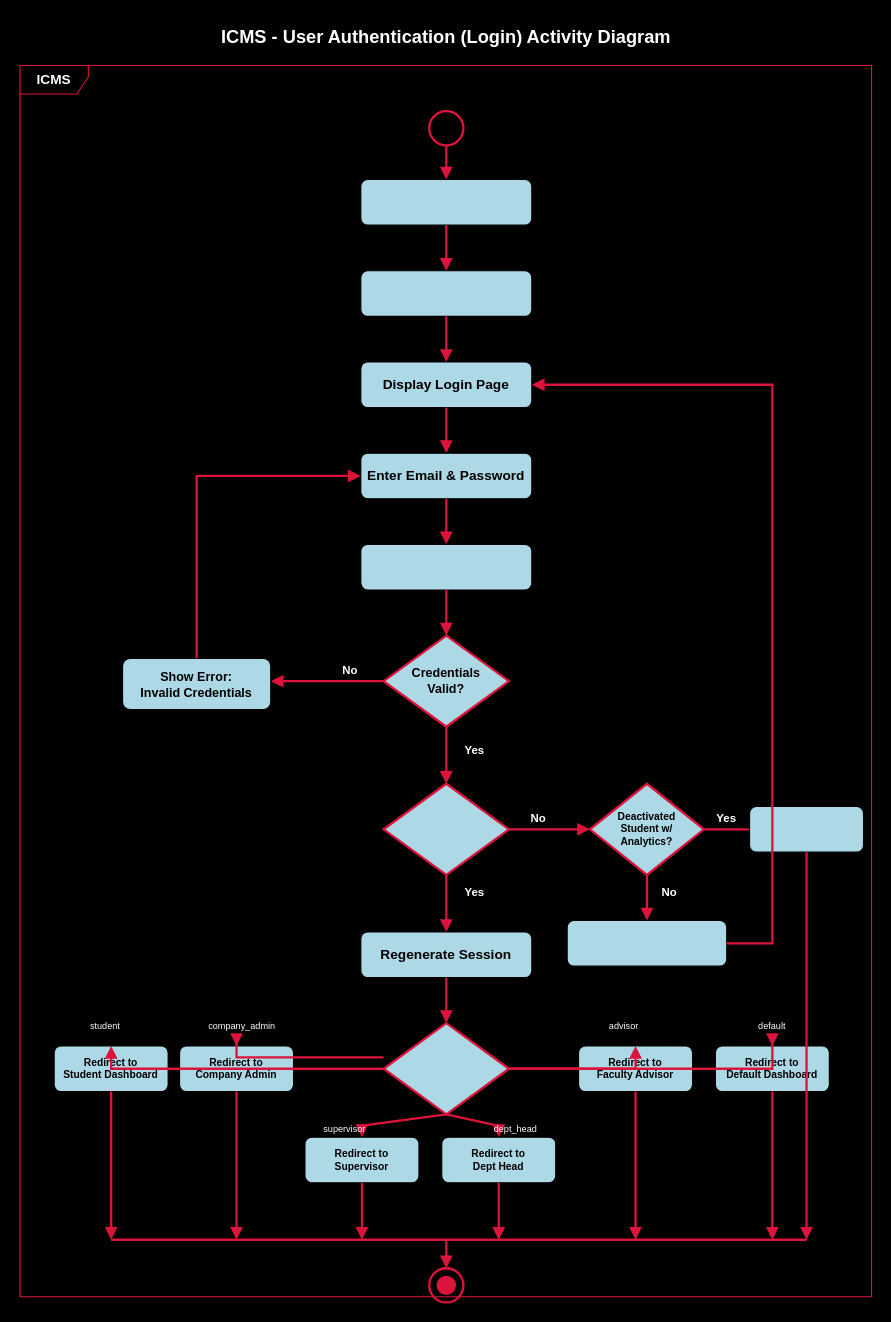
This 891x1322 diagram has some shape labels left out. Each missing label, with the centre of its shape:
Account Active?: the point at 446,829
Check User Role: the point at 446,1068
Click Login Button: the point at 446,566
idle state: the point at 446,201
Redirect to Analytics Page: the point at 806,828
Show Error: Account Deactivated: the point at 646,942
Start ICMS: the point at 446,293
